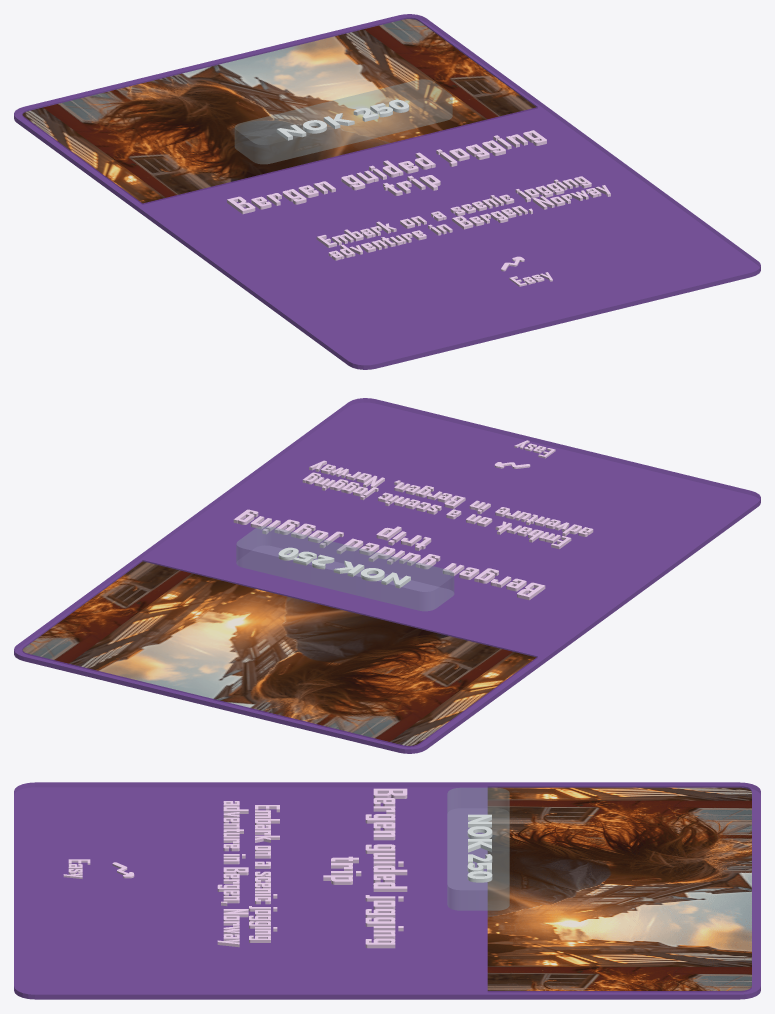
File: Card2.gltf
3 views of the same model, one above another, from view 1: azimuth 30°, elevation 25°; view 2: azimuth 150°, elevation 25°; view 3: azimuth 270°, elevation 25° (orthographic). The views are drawn at different scales.
Visible parts, largest first — view 1: Body, PriceBody, Description, Title, Price; view 2: Body, PriceBody, Description, Title, Price; view 3: Body, PriceBody, Description, Title, Price.
Part boxes in pixels (bbox=[...]): Body: bbox=[14, 14, 760, 369]; PriceBody: bbox=[235, 79, 452, 163]; Description: bbox=[316, 176, 610, 260]; Title: bbox=[227, 130, 546, 214]; Price: bbox=[276, 99, 409, 140]; Body: bbox=[14, 398, 760, 753]; PriceBody: bbox=[236, 526, 453, 610]; Description: bbox=[302, 460, 593, 549]; Title: bbox=[233, 509, 545, 600]; Price: bbox=[278, 547, 410, 588]; Body: bbox=[14, 782, 760, 999]; PriceBody: bbox=[447, 788, 509, 910]; Description: bbox=[217, 801, 279, 947]; Title: bbox=[323, 788, 407, 948]; Price: bbox=[467, 814, 492, 882].
Bounding box in the file's own units: 3.28 × 0.3884 × 4.88.
Materials: 5 (1 with a texture image).
